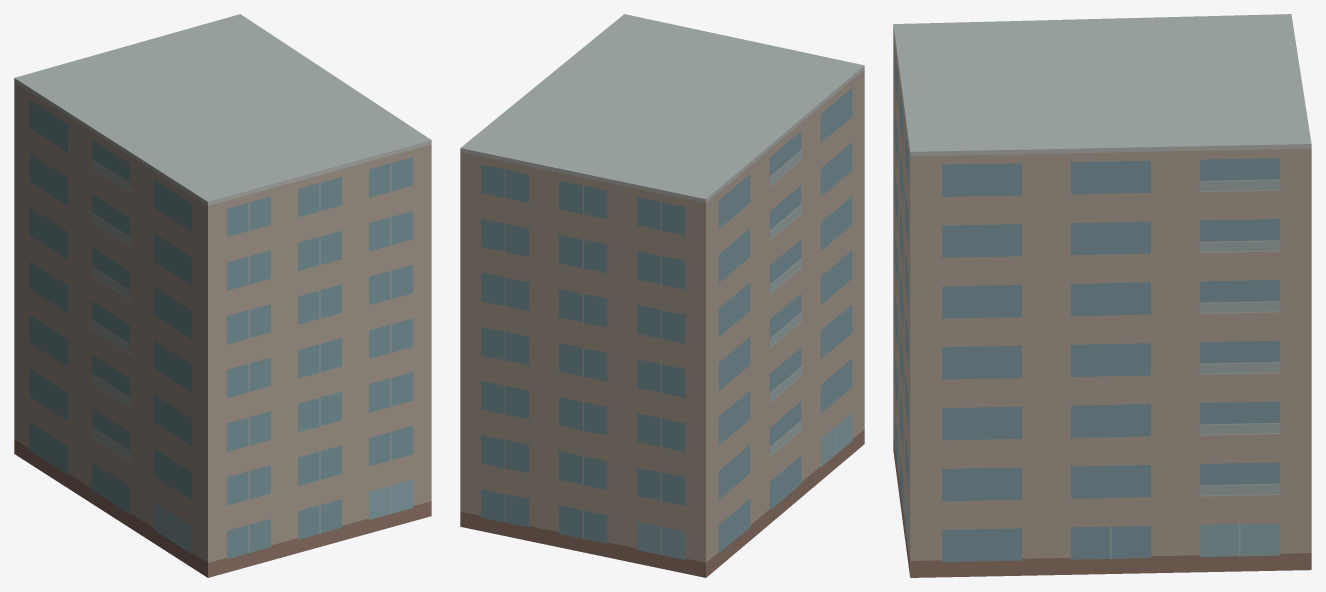
The model's file is survey-upis-32585220.glb.
3 renders of one model, left to right at view 1: azimuth 30°, elevation 25°; view 2: azimuth 150°, elevation 25°; view 3: azimuth 270°, elevation 25°, orthographic. The views are drawn at different scales.
Visible parts, largest first — view 1: survey-upis-32585220.tmp; view 2: survey-upis-32585220.tmp; view 3: survey-upis-32585220.tmp.
Part boxes in pixels (<box>): survey-upis-32585220.tmp: <box>14,14,431,577</box>; survey-upis-32585220.tmp: <box>460,14,864,577</box>; survey-upis-32585220.tmp: <box>893,14,1311,577</box>.
Bounding box in the file's own units: 15.9 × 22.9 × 20.38.
